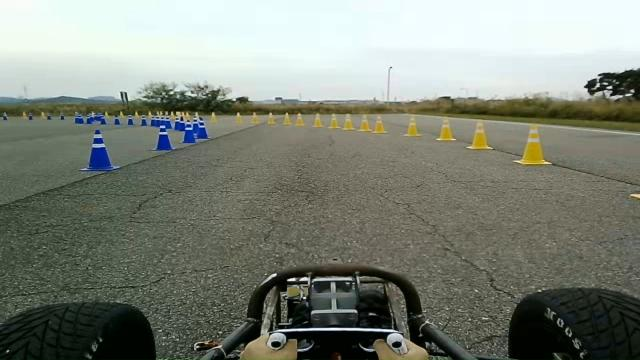blue cone: (78, 129, 121, 171), (150, 125, 176, 151), (178, 118, 200, 144), (198, 117, 214, 142), (2, 112, 8, 120), (28, 113, 34, 120), (46, 113, 52, 120)
yellow cone: (512, 124, 552, 165), (466, 118, 493, 150), (435, 116, 456, 141), (403, 114, 421, 136), (371, 115, 388, 134), (357, 114, 371, 132), (342, 113, 355, 130), (328, 112, 340, 128), (312, 112, 323, 127), (294, 112, 304, 126), (266, 112, 276, 124), (282, 112, 291, 125)
